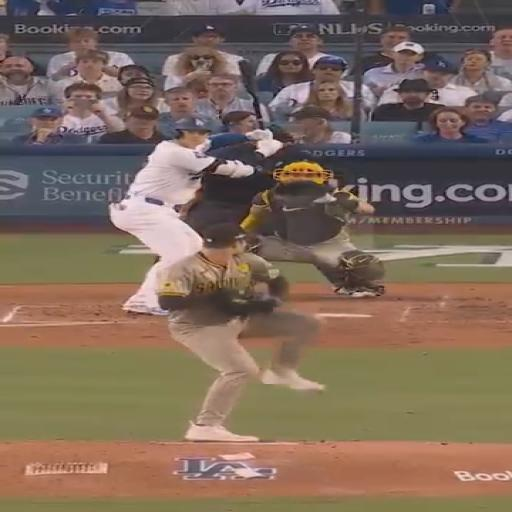bat: (239, 60, 264, 128)
